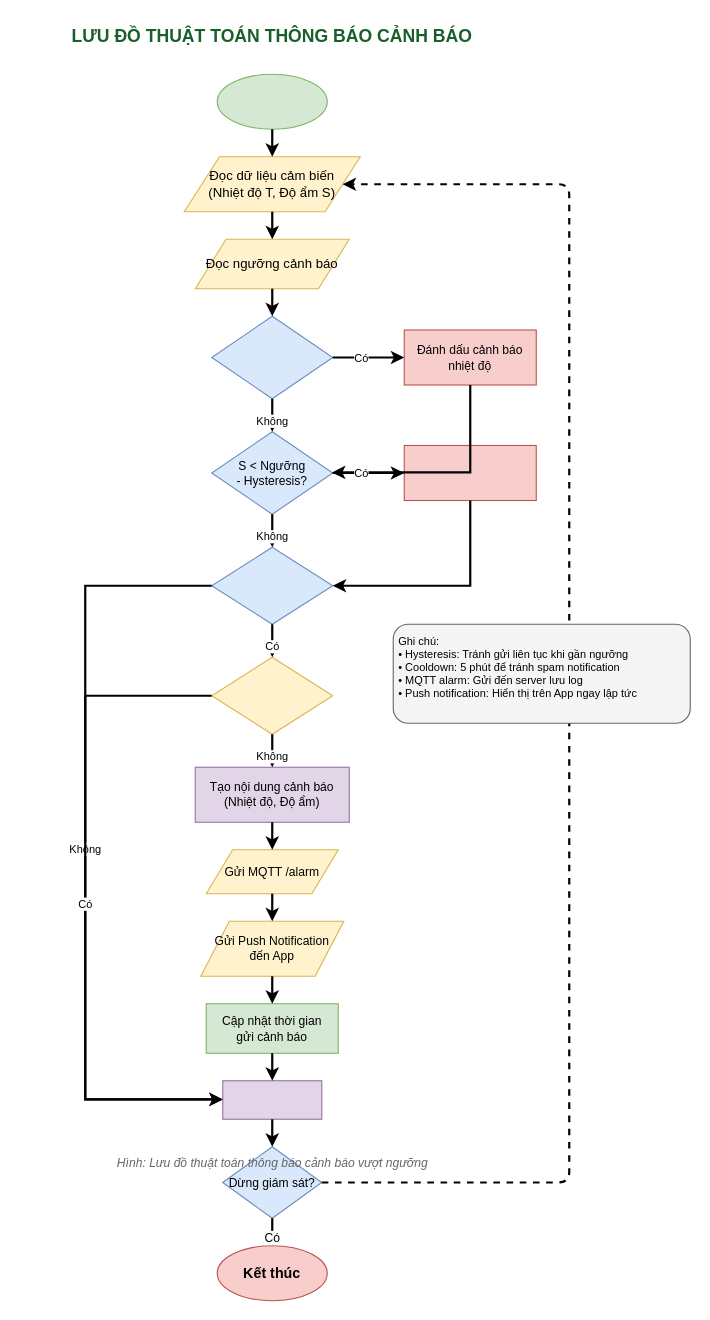
Some shapes in this 710 by 1320 pixel diagram are drawn without their labels. The centre of each missing label's shape, as x and y in pixels:
"Bắt đầu" goes at point (271, 101).
"Chờ 3 giây" goes at point (272, 1099).
"Có cảnh báo nào không?" goes at point (272, 585).
"T > Ngưỡng + Hysteresis?" goes at point (272, 357).
"Đánh dấu cảnh báo độ ẩm đất" goes at point (469, 472).
"Đã gửi trong 5 phút qua?" goes at point (272, 695).
